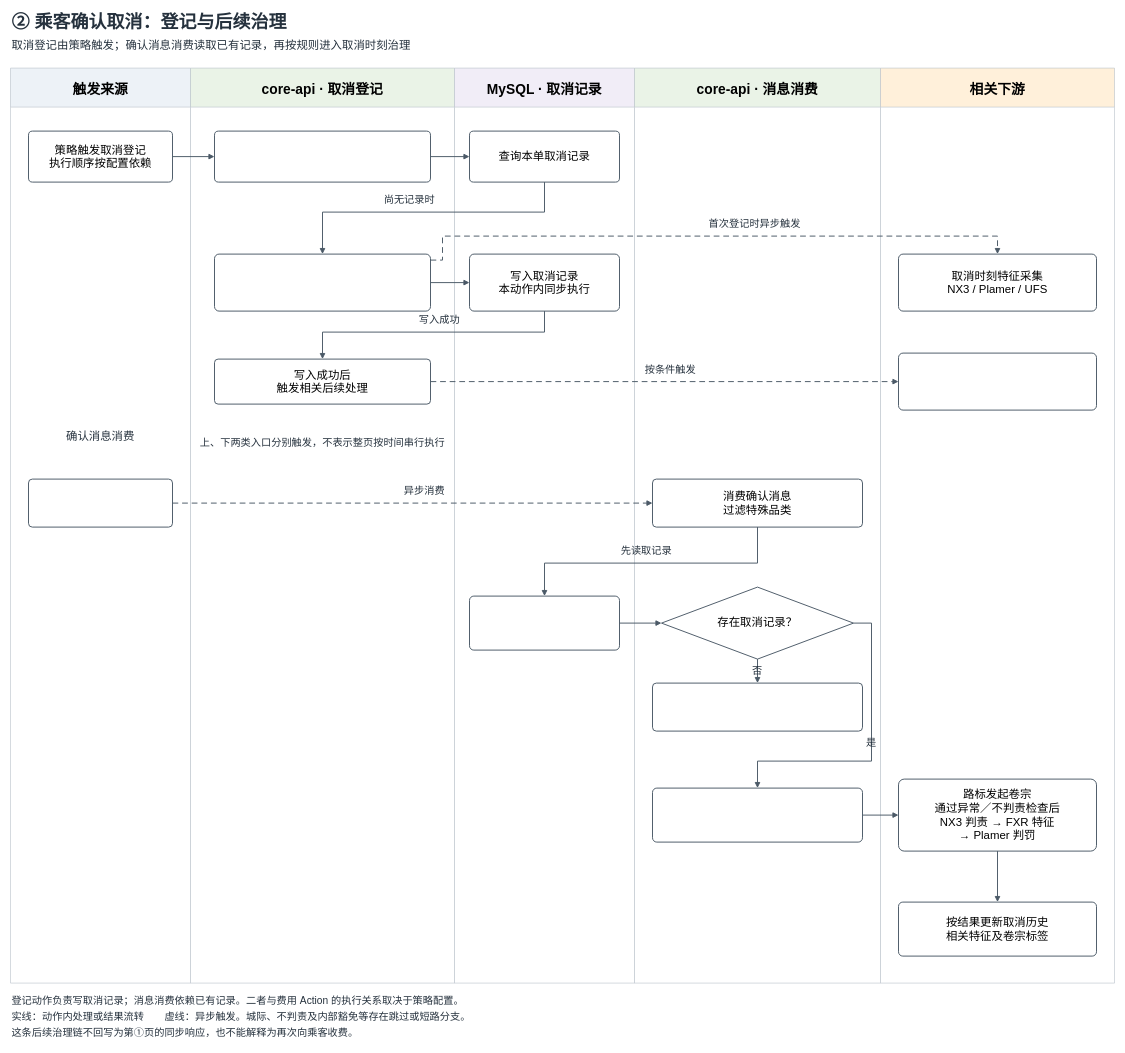
Some shapes in this 1125 by 1053 pixel diagram are drawn without their labels. The centre of each missing label's shape, as x and y in pixels:
准入、防重 检查是否已有取消记录: the point at 322,156
按豁免规则分流 符合条件时发起实时治理: the point at 757,814
无记录：报错结束 消费端不会补建取消记录: the point at 757,706
确认取消 MQ 由第①页发送: the point at 100,502
读取已有取消记录: the point at 544,622
通知 Themis / RT 等 按条件核销或解冻等待权益: the point at 997,381
首次登记 发起特征采集 保存取消事实、费用和豁免: the point at 322,282
